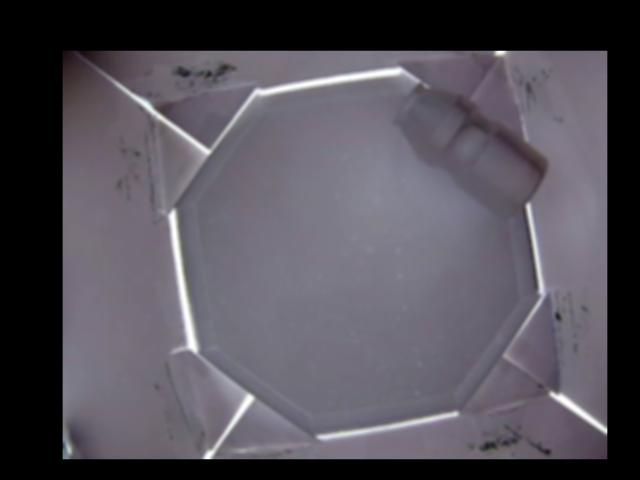Bottle: (391, 79, 547, 220)
